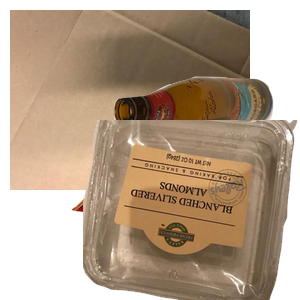cardboard: (10, 10, 250, 190)
glass: (111, 74, 300, 204)
plastic: (83, 120, 300, 300)
trash: (69, 153, 239, 300)
